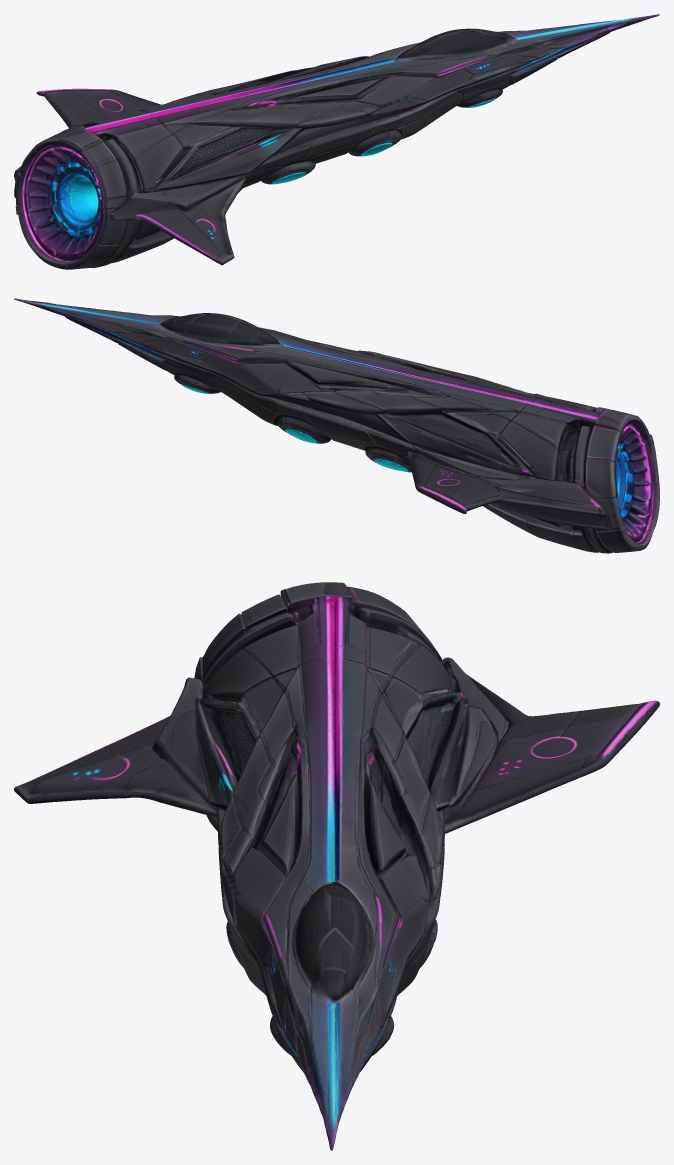
File: car-c.glb
3 renders of one model, top to bottom at view 1: azimuth 30°, elevation 25°; view 2: azimuth 150°, elevation 25°; view 3: azimuth 270°, elevation 25°, orthographic. The views are drawn at different scales.
Visible parts, largest first — view 1: tripo_node_8b432c31-98c8-402a-ae9e-5aaff581e208; view 2: tripo_node_8b432c31-98c8-402a-ae9e-5aaff581e208; view 3: tripo_node_8b432c31-98c8-402a-ae9e-5aaff581e208.
Boxes of the visible parts, bbox=[...] form: tripo_node_8b432c31-98c8-402a-ae9e-5aaff581e208: bbox=[14, 14, 659, 269]; tripo_node_8b432c31-98c8-402a-ae9e-5aaff581e208: bbox=[14, 298, 659, 553]; tripo_node_8b432c31-98c8-402a-ae9e-5aaff581e208: bbox=[14, 582, 659, 1150].
Bounding box in the file's own units: 0.9826 × 0.2056 × 0.4867.
1 material, 1 textured.
